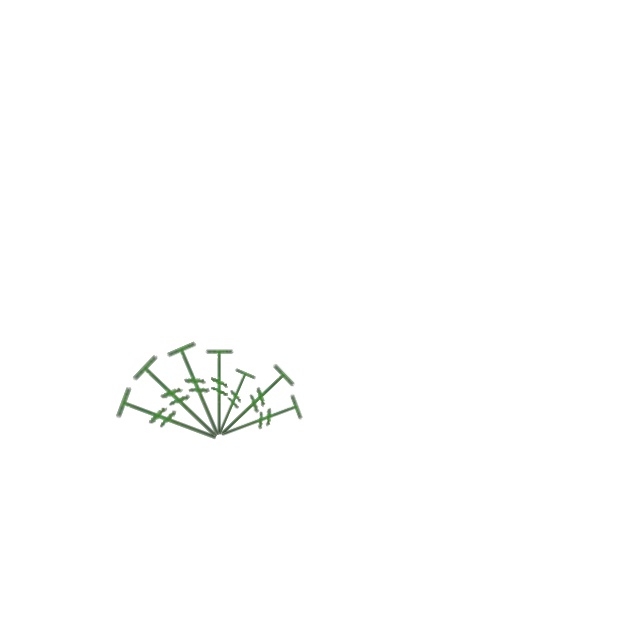fan: (129, 349, 234, 451), (113, 381, 227, 456), (208, 360, 299, 450), (163, 337, 237, 444), (214, 392, 306, 452), (208, 366, 260, 442), (203, 347, 237, 437)
